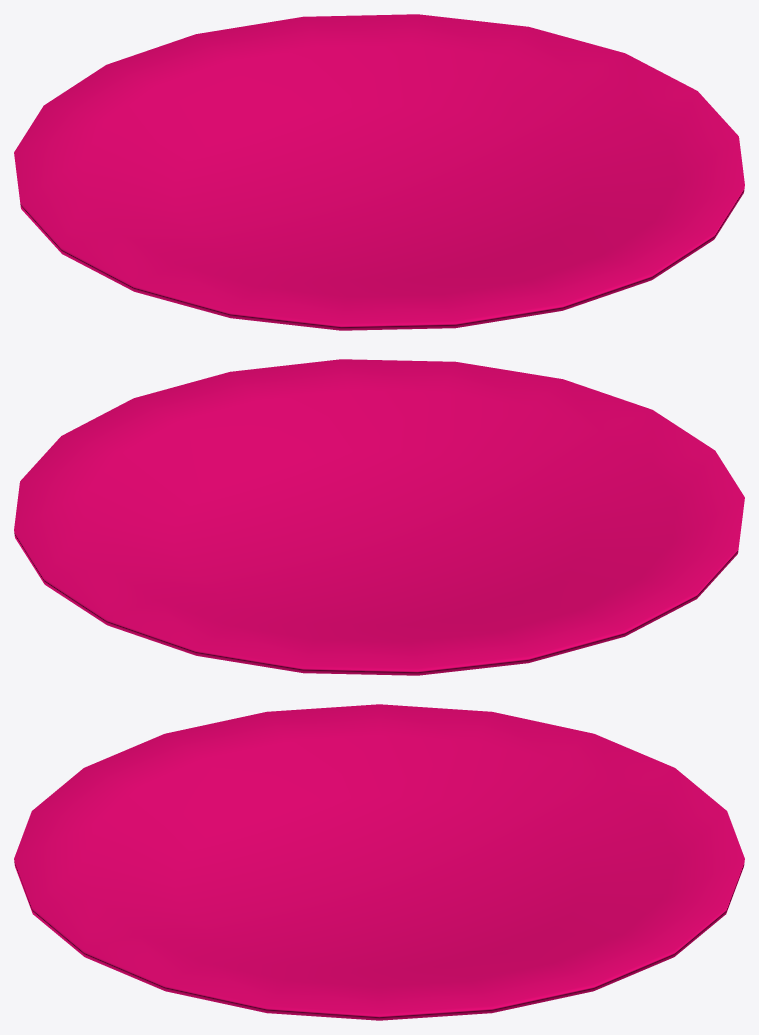
Rendered from Plate_Food_03_Lod1.fbx.
The picture shows the model from 3 angles, top to bottom: view 1: azimuth 30°, elevation 25°; view 2: azimuth 150°, elevation 25°; view 3: azimuth 270°, elevation 25°; orthographic projection.
Parts seen in each view (by area): view 1: Plate_Food_03_Lod1; view 2: Plate_Food_03_Lod1; view 3: Plate_Food_03_Lod1.
Boxes of the visible parts, bbox=[...] form: Plate_Food_03_Lod1: bbox=[14, 14, 744, 330]; Plate_Food_03_Lod1: bbox=[14, 359, 744, 675]; Plate_Food_03_Lod1: bbox=[14, 704, 744, 1020].
Bounding box in the file's own units: 28.93 × 2.39 × 28.93.
